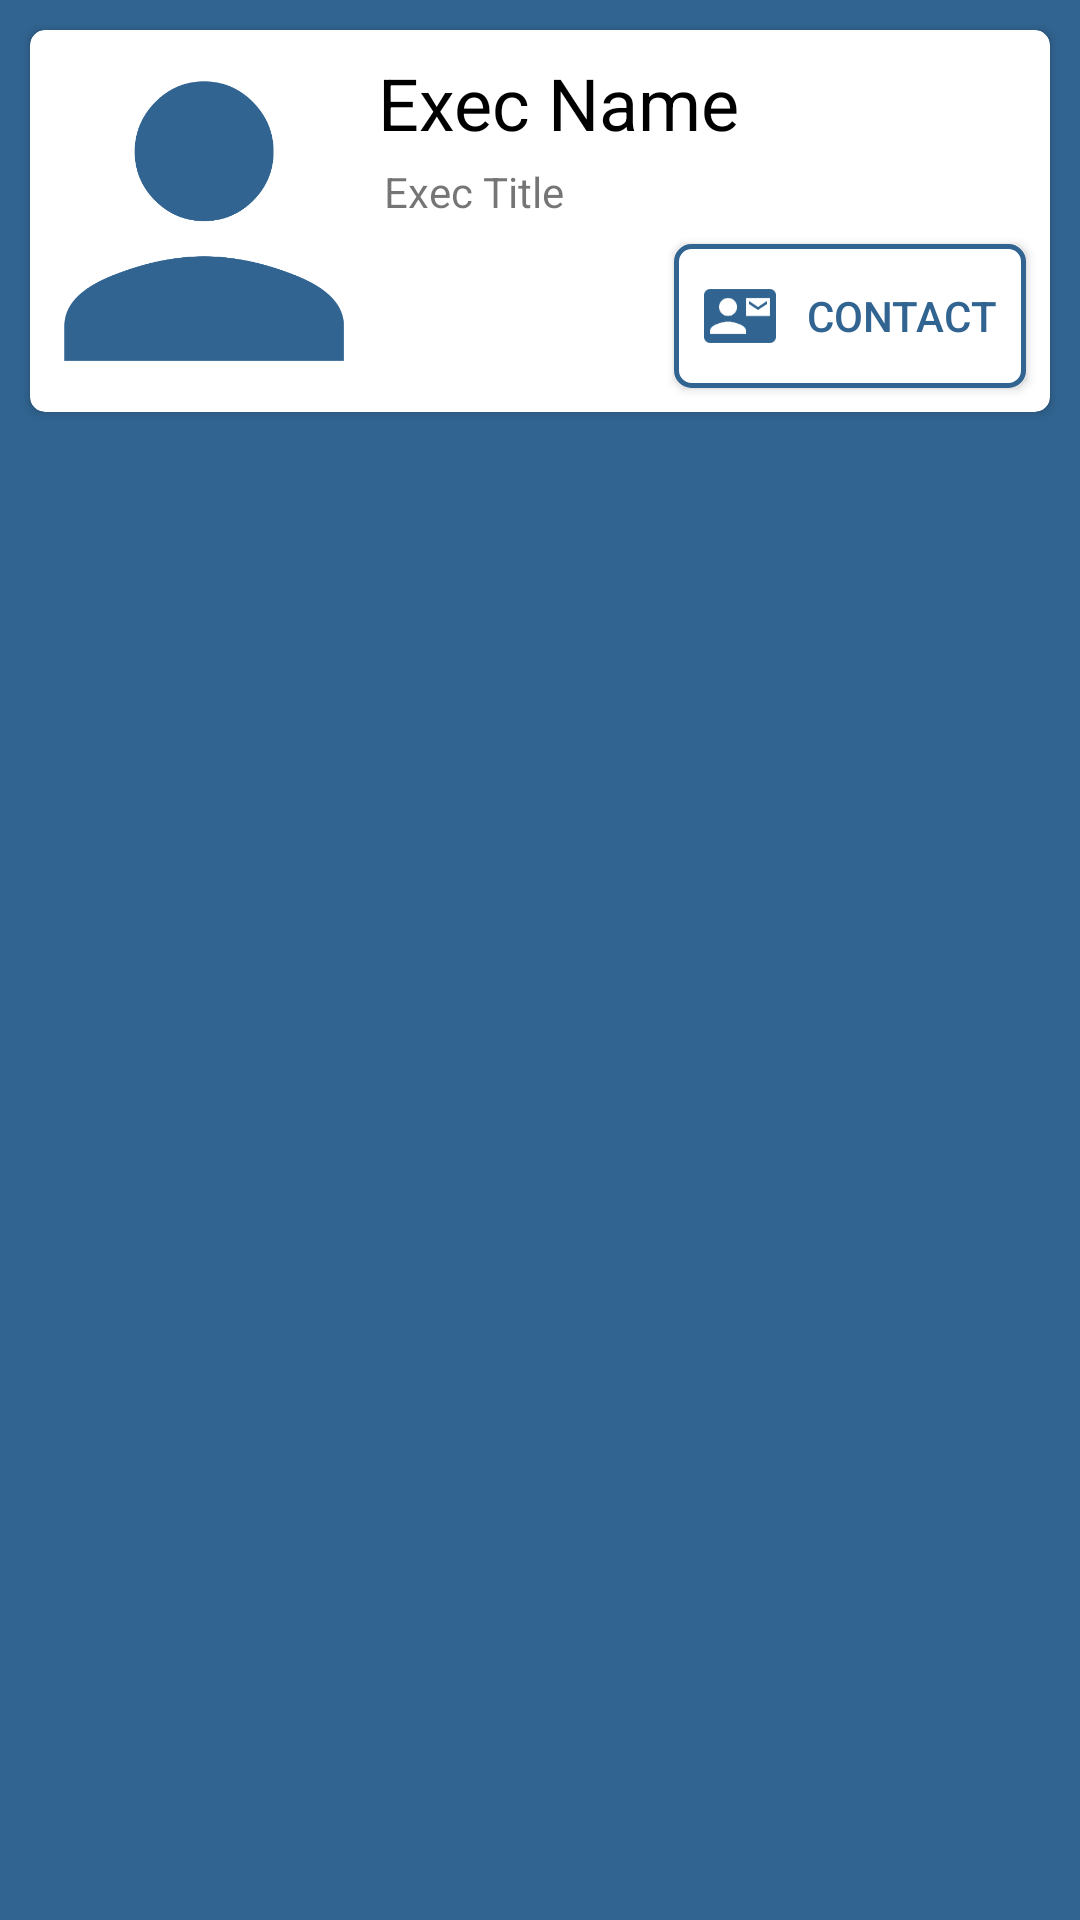

Named icons in this screenshot (1080×1920) and their centers, (x,y):
person: (204,221)
